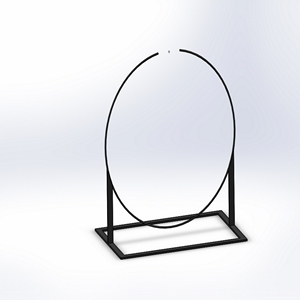circle: (92, 47, 250, 261)
